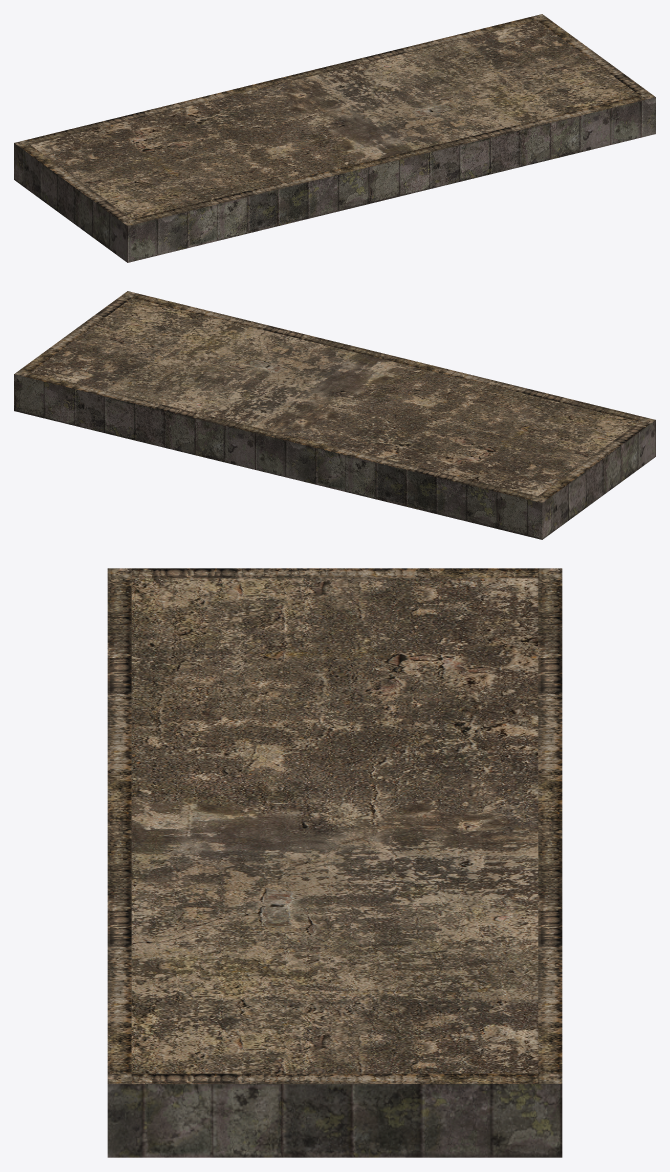
Rendered from materials_5_floor_rectangle_20.fbx.
The picture shows the model from 3 angles, top to bottom: view 1: azimuth 30°, elevation 25°; view 2: azimuth 150°, elevation 25°; view 3: azimuth 270°, elevation 25°; orthographic projection. The views are drawn at different scales.
Visible parts, largest first — view 1: materials_5_floor_rectangle_20; view 2: materials_5_floor_rectangle_20; view 3: materials_5_floor_rectangle_20.
Part boxes in pixels (x1=…): materials_5_floor_rectangle_20: x1=14, y1=14, x2=655, y2=262; materials_5_floor_rectangle_20: x1=14, y1=291, x2=655, y2=539; materials_5_floor_rectangle_20: x1=107, y1=568, x2=562, y2=1157.
Size of the model in its own units: 200 by 13.33 by 74.5.
